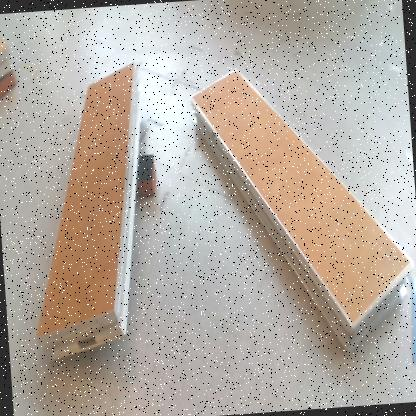Stairs: (193, 68, 411, 356), (34, 63, 143, 365), (1, 41, 13, 78)
